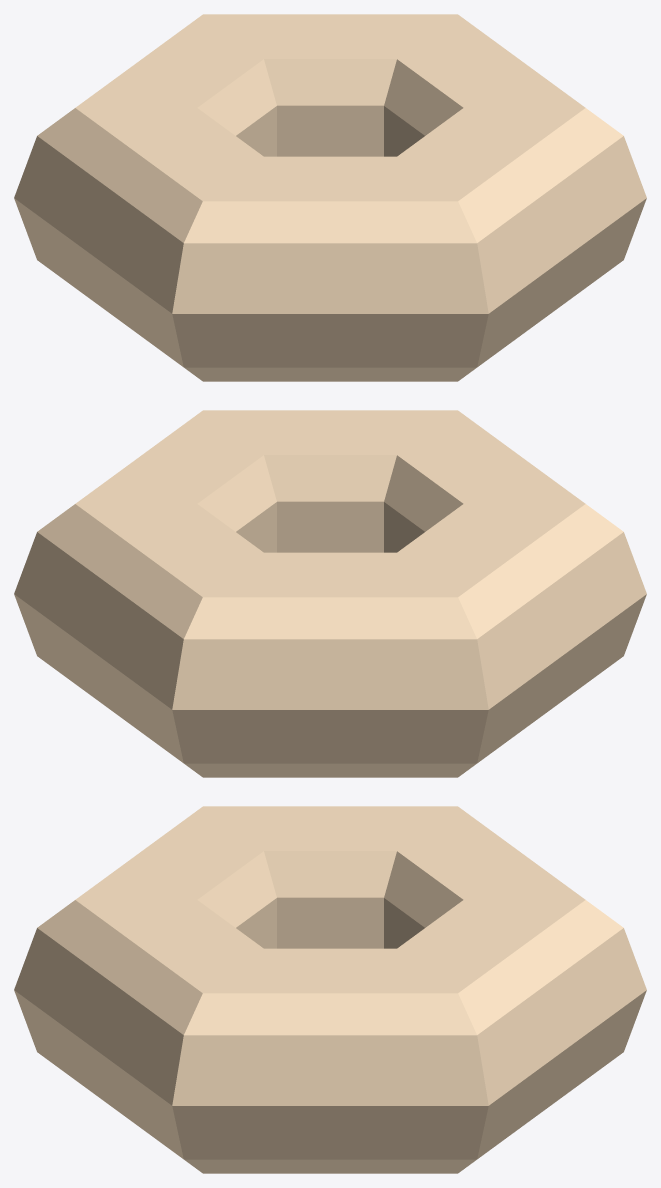
Rendered from donut.glb.
3 renders of one model, top to bottom at view 1: azimuth 30°, elevation 25°; view 2: azimuth 150°, elevation 25°; view 3: azimuth 270°, elevation 25°, orthographic.
Parts seen in each view (by area): view 1: donut; view 2: donut; view 3: donut.
Boxes of the visible parts, x1,y1,x2,y2 form: donut: (14,14,646,381); donut: (14,410,646,777); donut: (14,806,646,1173).
Bounding box in the file's own units: 0.2451 × 0.0889 × 0.283.
